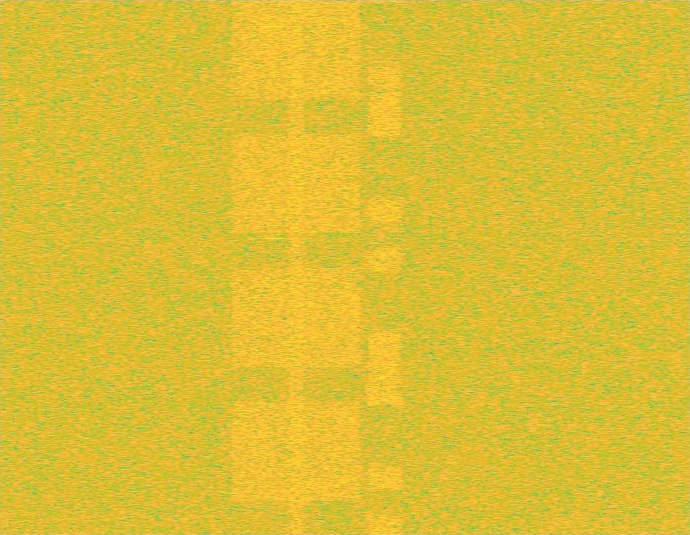5G: (228, 0, 366, 534)
DSSS: (287, 0, 306, 534)
LTE: (368, 0, 402, 534)
Radar: (267, 0, 281, 534)
